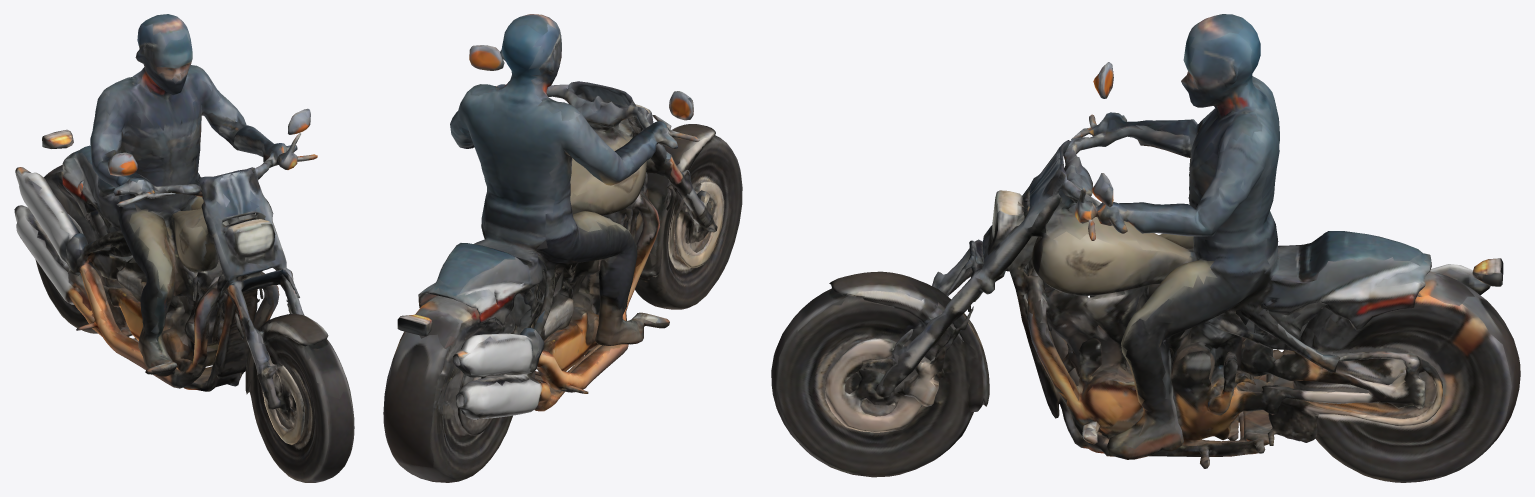
Rendered from Rider.glb.
The picture shows the model from 3 angles, left to right: view 1: azimuth 30°, elevation 25°; view 2: azimuth 150°, elevation 25°; view 3: azimuth 270°, elevation 25°; orthographic projection. The views are drawn at different scales.
Visible parts, largest first — view 1: Rider; view 2: Rider; view 3: Rider.
Boxes of the visible parts, box(x1,y1,x2,y2) form: Rider: box(14, 14, 354, 482); Rider: box(383, 14, 742, 482); Rider: box(771, 14, 1520, 482).
Size of the model in its own units: 0.8788 by 1.5 by 2.22.
Materials: 1 (1 with a texture image).
